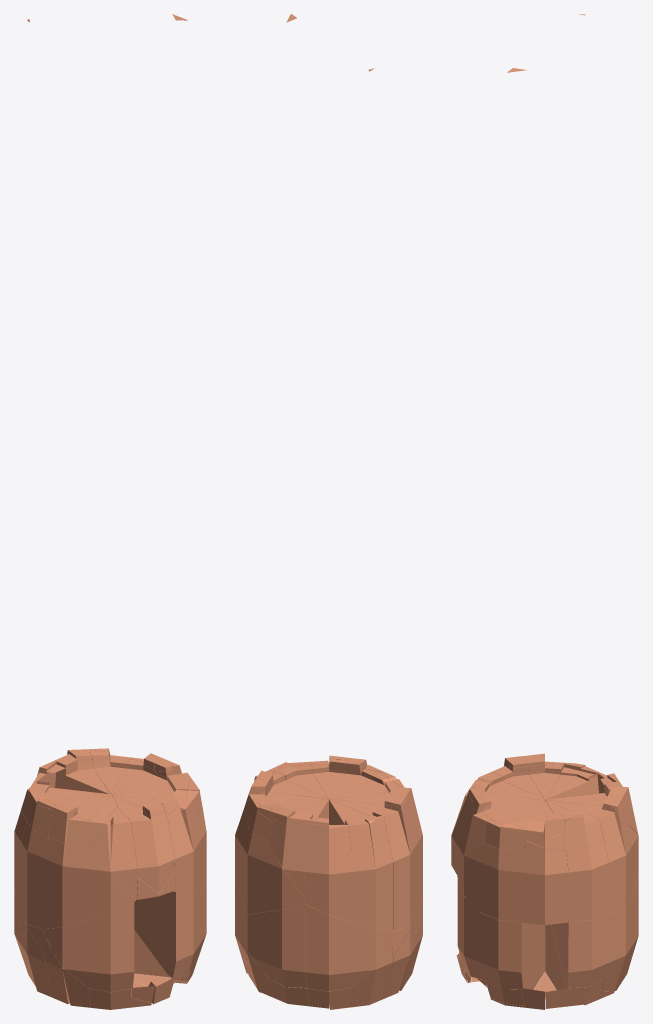
The model's file is barrel_broken.fbx.
3 views of the same model, side by side, from view 1: azimuth 30°, elevation 25°; view 2: azimuth 150°, elevation 25°; view 3: azimuth 270°, elevation 25° (orthographic). The views are drawn at different scales.
Visible parts, largest first — view 1: Cylinder_cell.073, Cylinder_cell.020, Cylinder_cell.022, Cylinder_cell.033, Cylinder_cell.085, Cylinder_cell.076, Cylinder_cell.010, Cylinder_cell.079, Cylinder_cell.035, Cylinder_cell.084, Cylinder_cell.081, Cylinder_cell.017 (+12 smaller); view 2: Cylinder_cell.015, Cylinder_cell.092, Cylinder_cell.058, Cylinder_cell.025, Cylinder_cell.076, Cylinder_cell.028, Cylinder_cell.089, Cylinder_cell.071, Cylinder_cell.081, Cylinder_cell.094, Cylinder_cell.008, Cylinder_cell.036 (+13 smaller); view 3: Cylinder_cell.075, Cylinder_cell.035, Cylinder_cell.024, Cylinder_cell.045, Cylinder_cell.004, Cylinder_cell.025, Cylinder_cell.022, Cylinder_cell.017, Cylinder_cell.066, Cylinder_cell.010, Cylinder_cell.046, Cylinder_cell.032 (+13 smaller).
Part boxes in pixels (x1,y1,x2,y2): Cylinder_cell.073: (43, 902, 134, 991); Cylinder_cell.020: (45, 838, 135, 928); Cylinder_cell.022: (134, 891, 199, 979); Cylinder_cell.033: (130, 811, 174, 893); Cylinder_cell.085: (87, 820, 137, 899); Cylinder_cell.076: (21, 822, 47, 929); Cylinder_cell.010: (167, 799, 195, 887); Cylinder_cell.079: (45, 954, 90, 1007); Cylinder_cell.035: (174, 811, 206, 892); Cylinder_cell.084: (48, 806, 88, 846); Cylinder_cell.081: (21, 929, 52, 997); Cylinder_cell.017: (134, 930, 198, 981); Cylinder_cell.015: (305, 904, 394, 991); Cylinder_cell.092: (305, 841, 392, 929); Cylinder_cell.058: (247, 904, 306, 987); Cylinder_cell.025: (241, 826, 305, 914); Cylinder_cell.076: (388, 825, 416, 930); Cylinder_cell.028: (304, 823, 350, 893); Cylinder_cell.089: (269, 799, 328, 897); Cylinder_cell.071: (349, 941, 392, 1007); Cylinder_cell.081: (383, 931, 416, 998); Cylinder_cell.094: (348, 816, 388, 850); Cylinder_cell.008: (307, 987, 352, 1009); Cylinder_cell.036: (330, 762, 380, 797); Cylinder_cell.075: (551, 912, 625, 988); Cylinder_cell.035: (457, 843, 522, 922); Cylinder_cell.024: (521, 848, 568, 925); Cylinder_cell.045: (481, 913, 538, 989); Cylinder_cell.004: (566, 842, 608, 922); Cylinder_cell.025: (604, 825, 638, 914); Cylinder_cell.022: (457, 878, 485, 980); Cylinder_cell.017: (486, 924, 544, 1005); Cylinder_cell.066: (564, 815, 604, 851); Cylinder_cell.010: (457, 808, 491, 872); Cylinder_cell.046: (484, 819, 524, 851); Cylinder_cell.032: (545, 924, 565, 989).
Bounding box in the file's own units: 234 × 1288 × 234.
